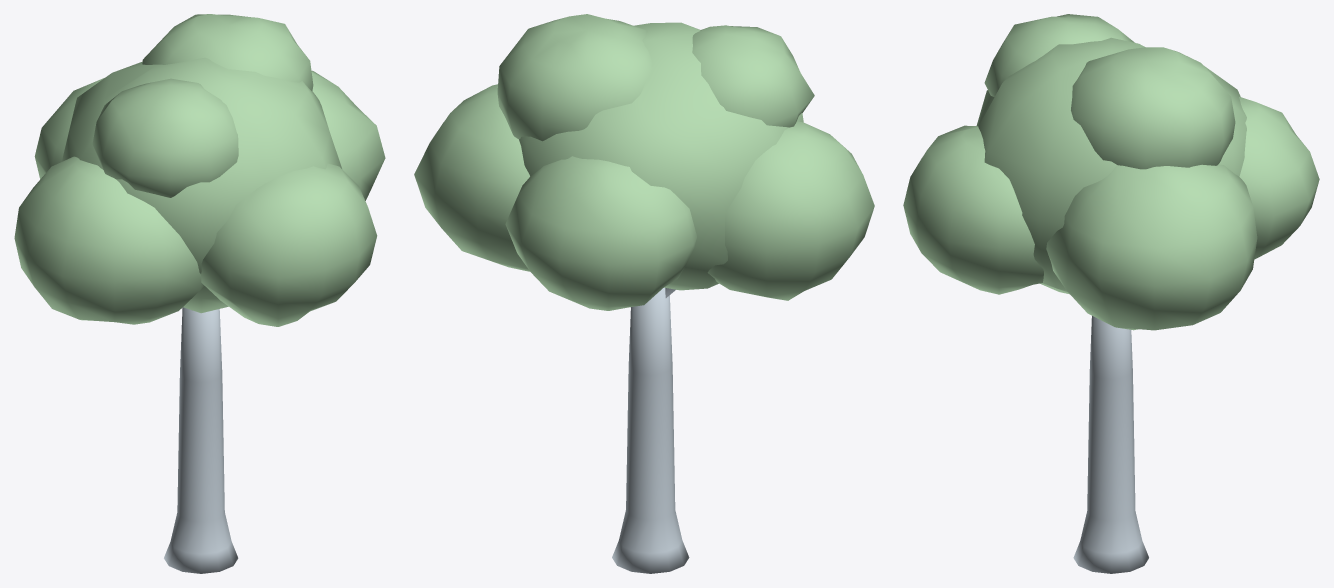
Rendered from tree.glb.
3 views of the same model, side by side, from view 1: azimuth 30°, elevation 25°; view 2: azimuth 150°, elevation 25°; view 3: azimuth 270°, elevation 25° (orthographic). The views are drawn at different scales.
Parts seen in each view (by area): view 1: main; view 2: main; view 3: main.
Part boxes in pixels (x1,y1,x2,y2): main: (14, 14, 385, 573); main: (414, 14, 874, 573); main: (903, 14, 1319, 573).
Size of the model in its own units: 5.17 by 6.65 by 4.83.
